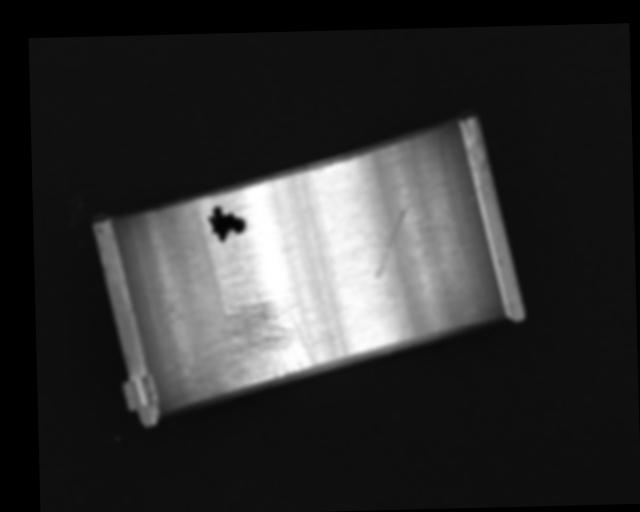blot: (206, 203, 246, 243)
nick: (306, 168, 334, 299), (372, 202, 412, 280)
scratch: (190, 287, 317, 401)
